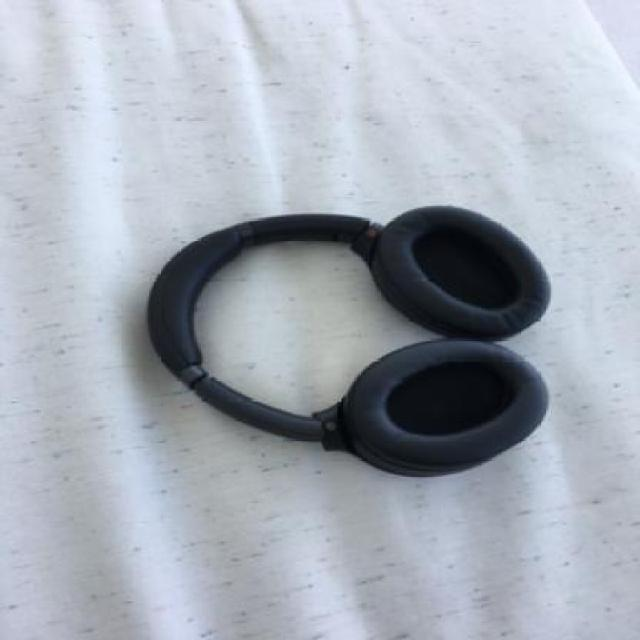earphone: (130, 95, 597, 543)
